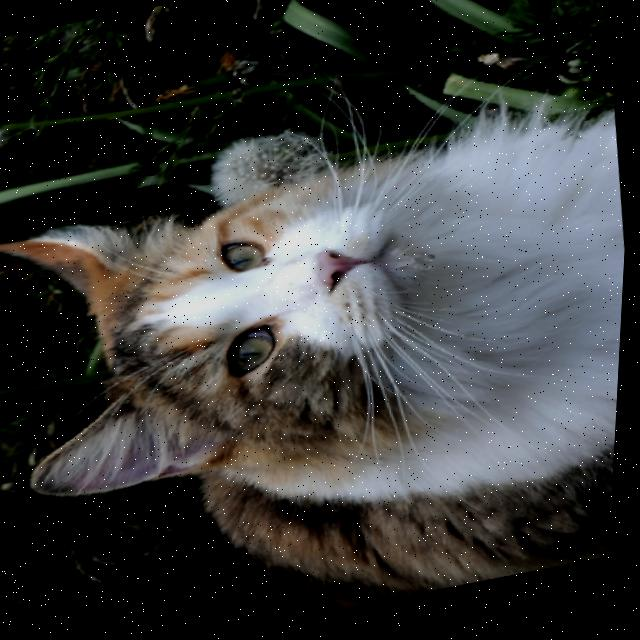Maine Coon: (0, 91, 635, 640)
